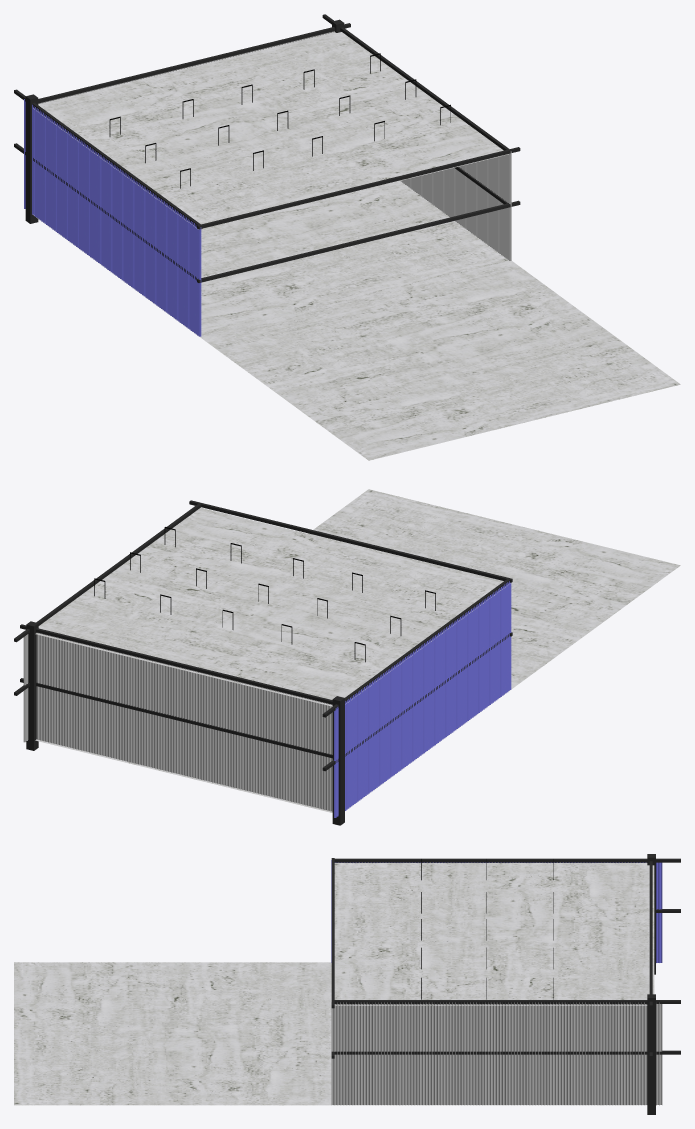
Rendered from WarehouseExport.fbx.
3 renders of one model, top to bottom at view 1: azimuth 30°, elevation 25°; view 2: azimuth 150°, elevation 25°; view 3: azimuth 270°, elevation 25°, orthographic. The views are drawn at different scales.
Parts seen in each view (by area): view 1: Plane_004__1_, Plane_005, Plane_004, Cube_023, Cube_039, Cube_027, Cube_031; view 2: Plane_005, Cube_029, Plane_004__1_, Cube_023, Cube_039, Cube_031, Plane_004, Cube_027; view 3: Plane_004__1_, Plane_005, Cube_027, Cube_039, Cube_023.
Boxes of the visible parts, left/top/right/bottom form: Plane_004__1_: left=199, top=261, right=680, bottom=460; Plane_005: left=33, top=32, right=508, bottom=229; Plane_004: left=33, top=181, right=508, bottom=335; Cube_023: left=24, top=99, right=201, bottom=336; Cube_039: left=14, top=14, right=520, bottom=282; Cube_027: left=364, top=48, right=511, bottom=260; Cube_031: left=109, top=53, right=450, bottom=188; Plane_005: left=35, top=507, right=510, bottom=706; Cube_029: left=36, top=632, right=332, bottom=811; Plane_004__1_: left=308, top=489, right=680, bottom=689; Cube_023: left=334, top=581, right=511, bottom=817; Cube_039: left=14, top=500, right=512, bottom=825; Cube_031: left=94, top=527, right=435, bottom=662; Plane_004: left=35, top=690, right=510, bottom=812; Cube_027: left=23, top=516, right=188, bottom=742; Plane_004__1_: left=14, top=962, right=332, bottom=1105; Plane_005: left=334, top=862, right=654, bottom=1005; Cube_027: left=331, top=1002, right=662, bottom=1105; Cube_039: left=331, top=854, right=680, bottom=1114; Cube_023: left=331, top=860, right=662, bottom=962.
Size of the model in its own units: 2563 by 1020 by 4896.
Materials: 38 (3 with a texture image).
